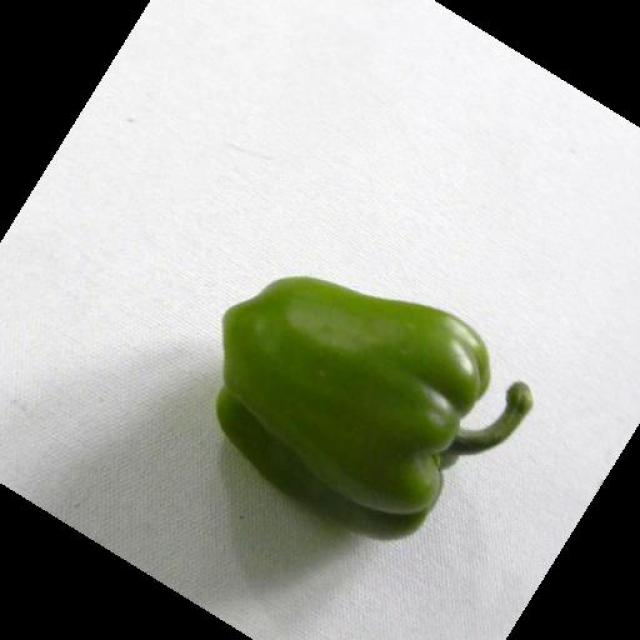Fresh_Capsicum: (195, 267, 525, 535)
